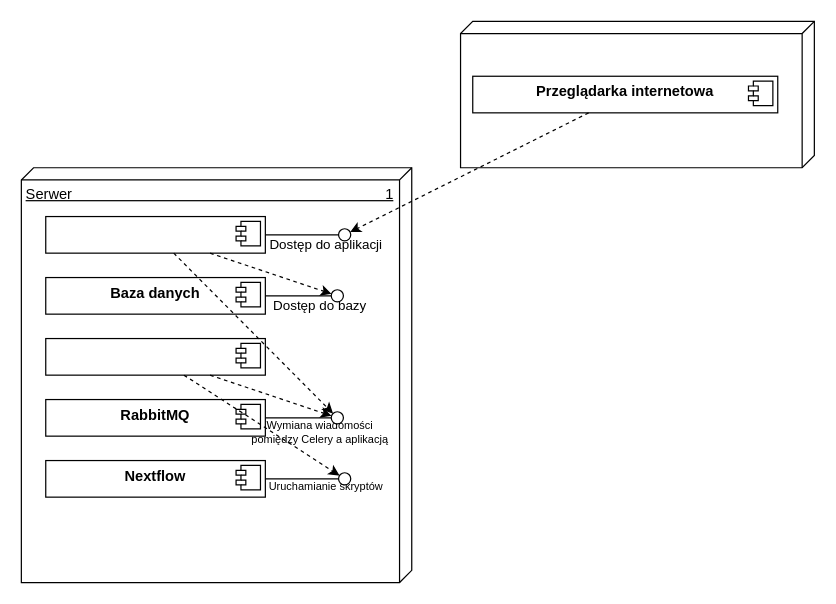
Some shapes in this 836 by 604 pixel diagram are drawn without their labels. Each missing label, with the box of its shape:
Aplikacja: (45, 215, 265, 253)
Celery: (45, 337, 265, 375)
Klient: (459, 20, 814, 168)
